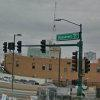Traffic light: (69, 47, 94, 76)
